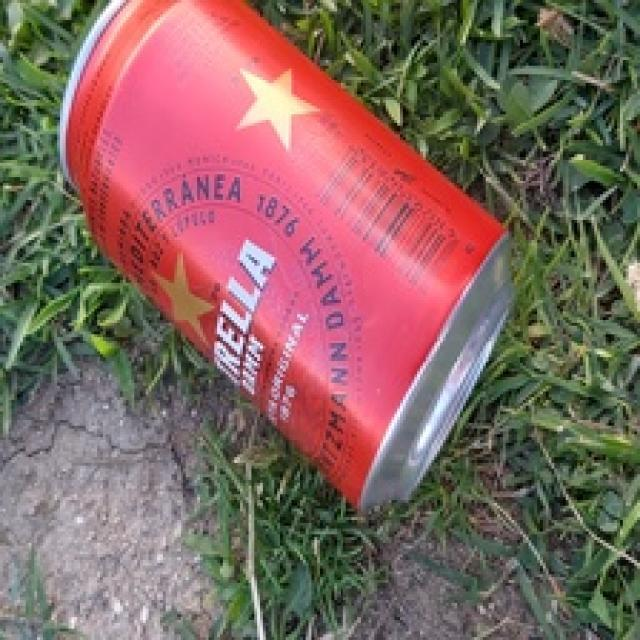recyclable: (59, 0, 514, 514)
